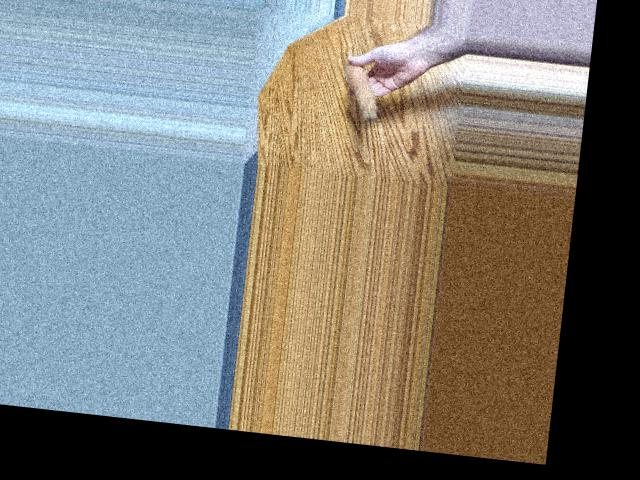sweet_potato: (339, 57, 386, 121)
